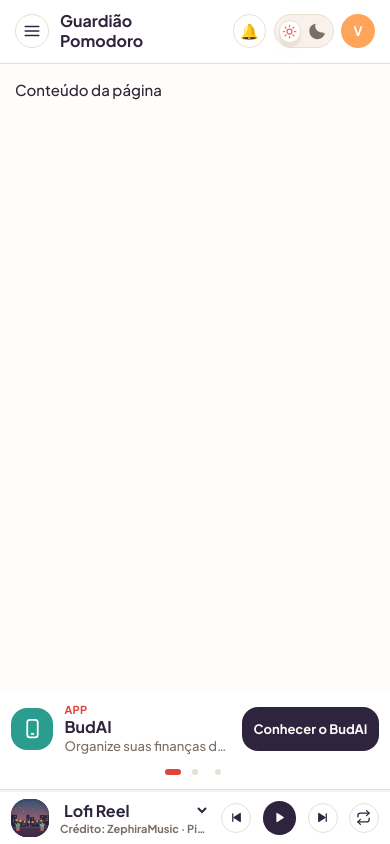
it: AppShell › menu hambúrguer (mobile) › fecha ao navegar por um link de dentro do menu
Click the button named "Abrir menu" at {"x": 32, "y": 31}, box [15,14,49,48]
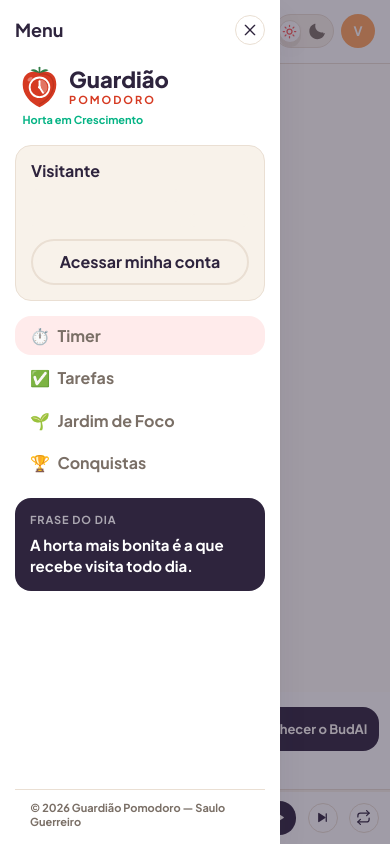
Click the link "✅ Tarefas" at {"x": 72, "y": 378}, box [30,367,114,388]
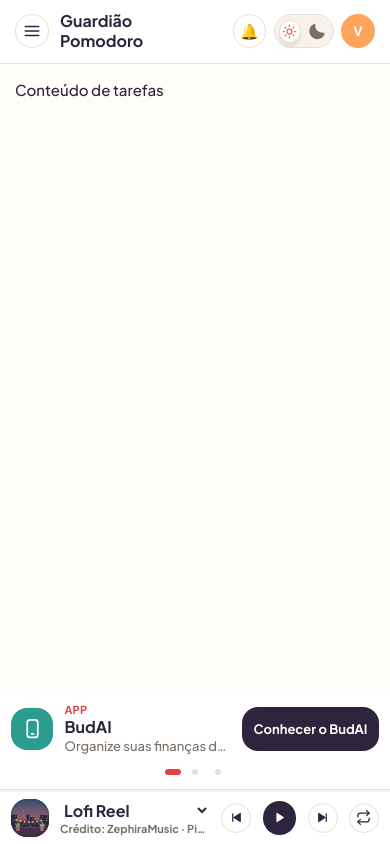
Now the text "Conteúdo de tarefas" is shown, box [15,80,164,98]
Now the text "Menu" is gone
